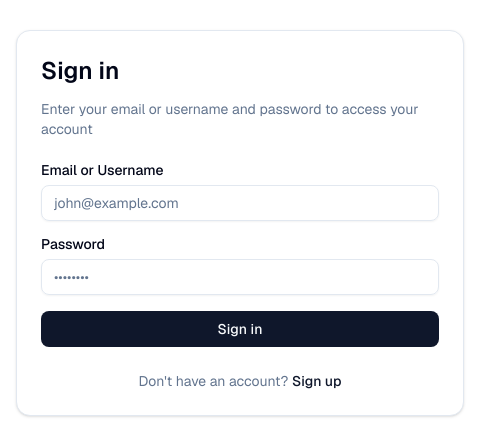
Test: LoginPage › Form Validation › should show validation error when password is empty
Click the password field labelled "Password".
click(240, 277)  # box [41,259,439,295]
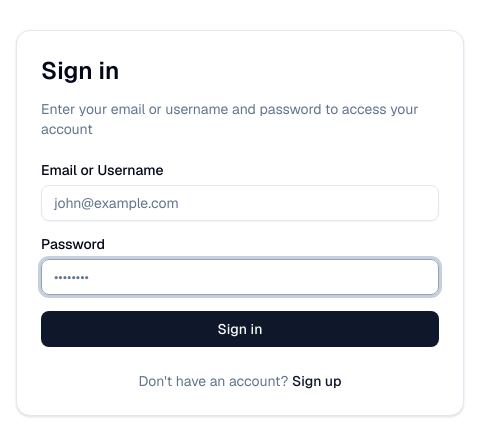
Press Tab
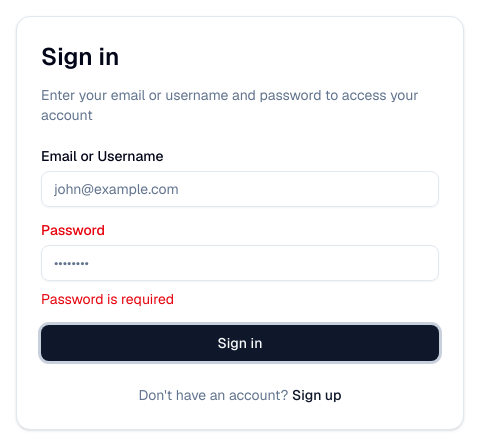
Result: the text "Password is required" is shown at [41,290,174,308]
